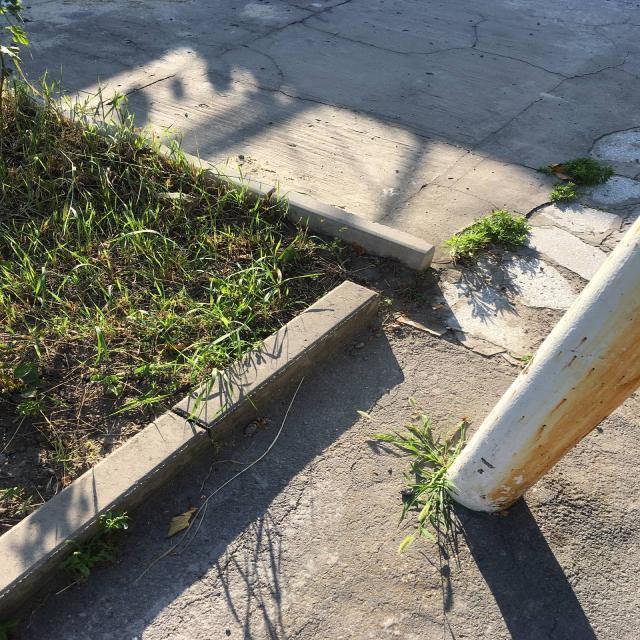bump: (178, 276, 386, 452), (272, 198, 436, 272)
